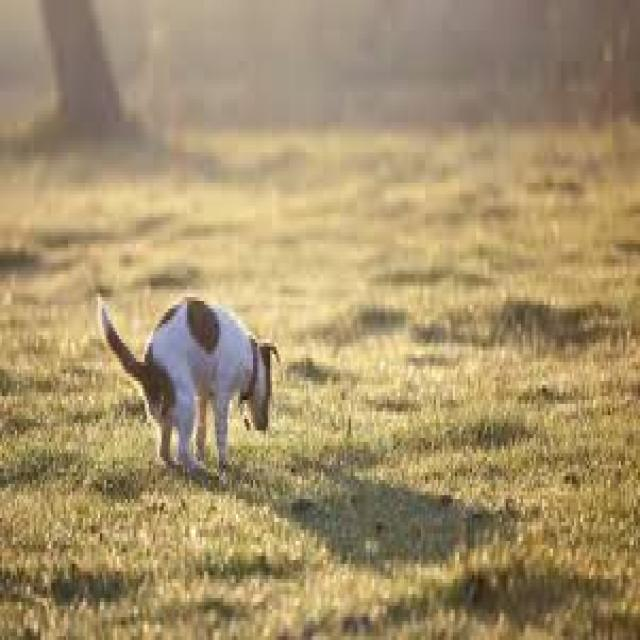Dogpoop: (99, 276, 278, 474)
